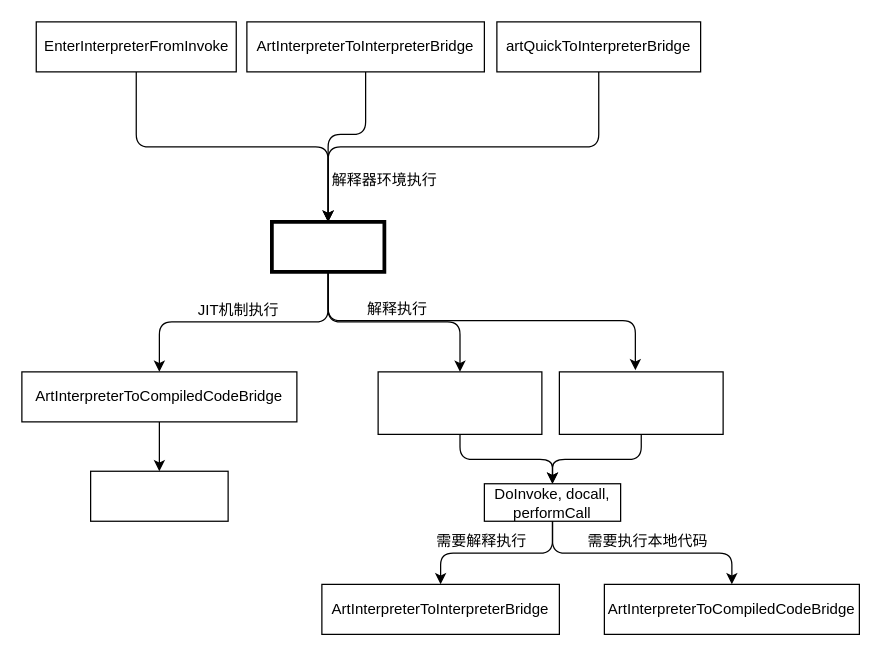
Some shapes in this 881 by 656 pixel diagram are drawn without their labels. The shapes that lost their labels are listed below. From the top down, each one's centre as x and y in pixels, then its label:
At (327,246): "Execute".
At (459,402): "ExecuteMterpImpl (汇编解释器实现函数)".
At (640,402): "ExecuteSwitchImpl (switch解释器实现函数)".
At (158,495): "ArtMethod::Invoke".
